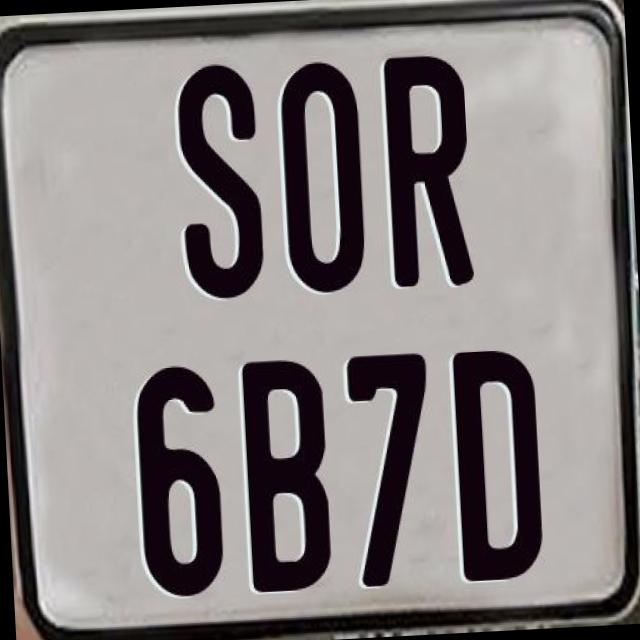0: (274, 57, 364, 301)
6: (132, 362, 232, 598)
7: (342, 350, 438, 586)
B: (239, 355, 337, 591)
D: (449, 346, 542, 578)
R: (380, 54, 470, 296)
S: (174, 59, 264, 300)
